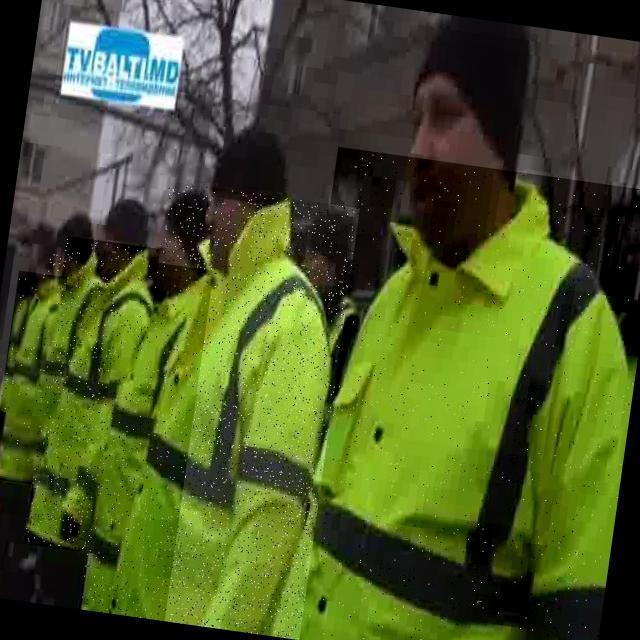Safety Vest: (269, 146, 640, 640), (109, 182, 360, 640), (79, 259, 214, 622), (24, 236, 161, 557), (17, 253, 110, 489), (0, 270, 61, 484)
